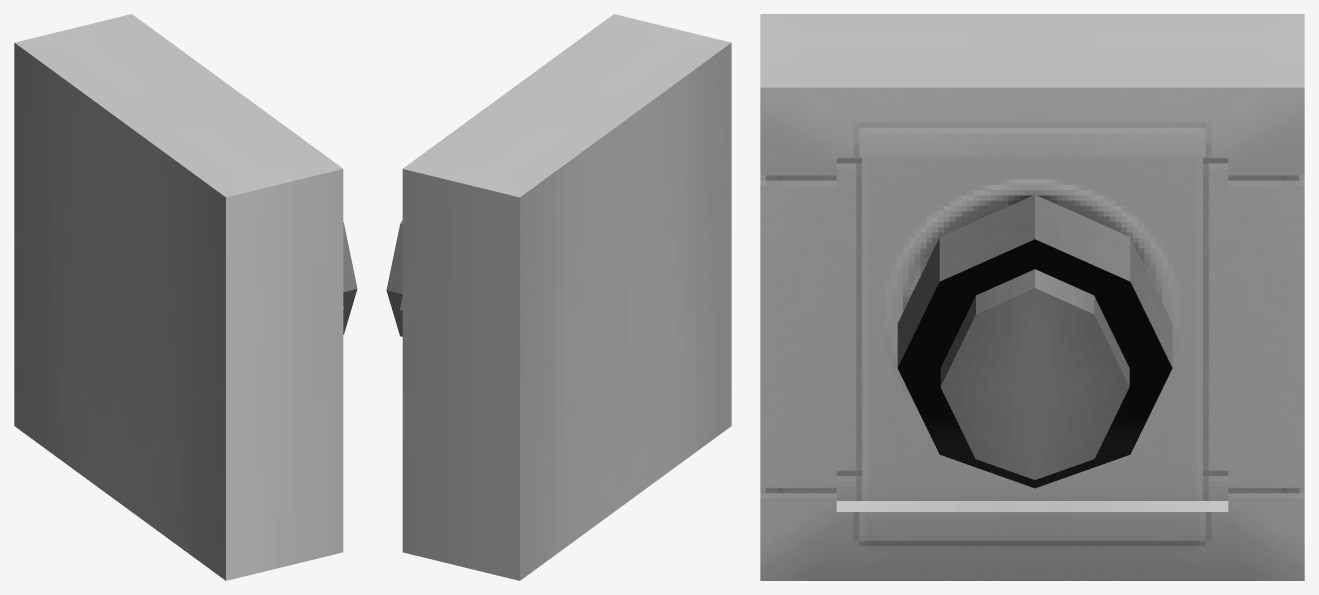
Rendered from PlugAndSocket.fbx.
The picture shows the model from 3 angles, left to right: view 1: azimuth 30°, elevation 25°; view 2: azimuth 150°, elevation 25°; view 3: azimuth 270°, elevation 25°; orthographic projection. The views are drawn at different scales.
Visible parts, largest first — view 1: Cube, Cube.001; view 2: Cube, Cube.001; view 3: Cube, Cube.001.
Part boxes in pixels (x1=…): Cube: x1=14, y1=14, x2=343, y2=580; Cube.001: x1=343, y1=222, x2=357, y2=334; Cube: x1=402, y1=14, x2=731, y2=580; Cube.001: x1=386, y1=220, x2=402, y2=336; Cube: x1=760, y1=14, x2=1304, y2=580; Cube.001: x1=897, y1=195, x2=1172, y2=488.
Bounding box in the file's own units: 8.35 × 15.18 × 15.18.
1 material, 1 textured.
